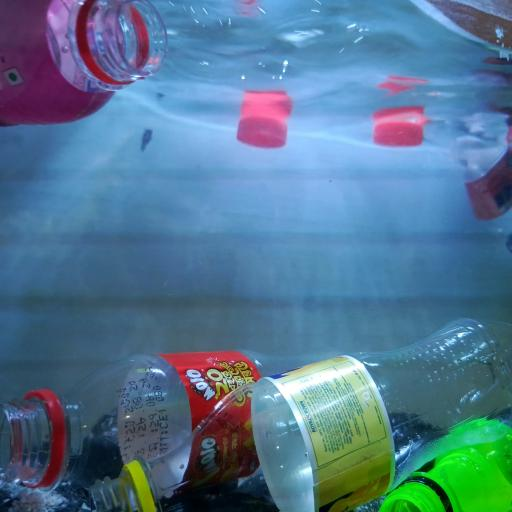bottle_cap: (235, 114, 288, 149), (373, 120, 423, 148)
plastic_bottle: (85, 313, 512, 512), (0, 349, 346, 492), (0, 0, 171, 128), (377, 415, 512, 512), (453, 136, 512, 256)
